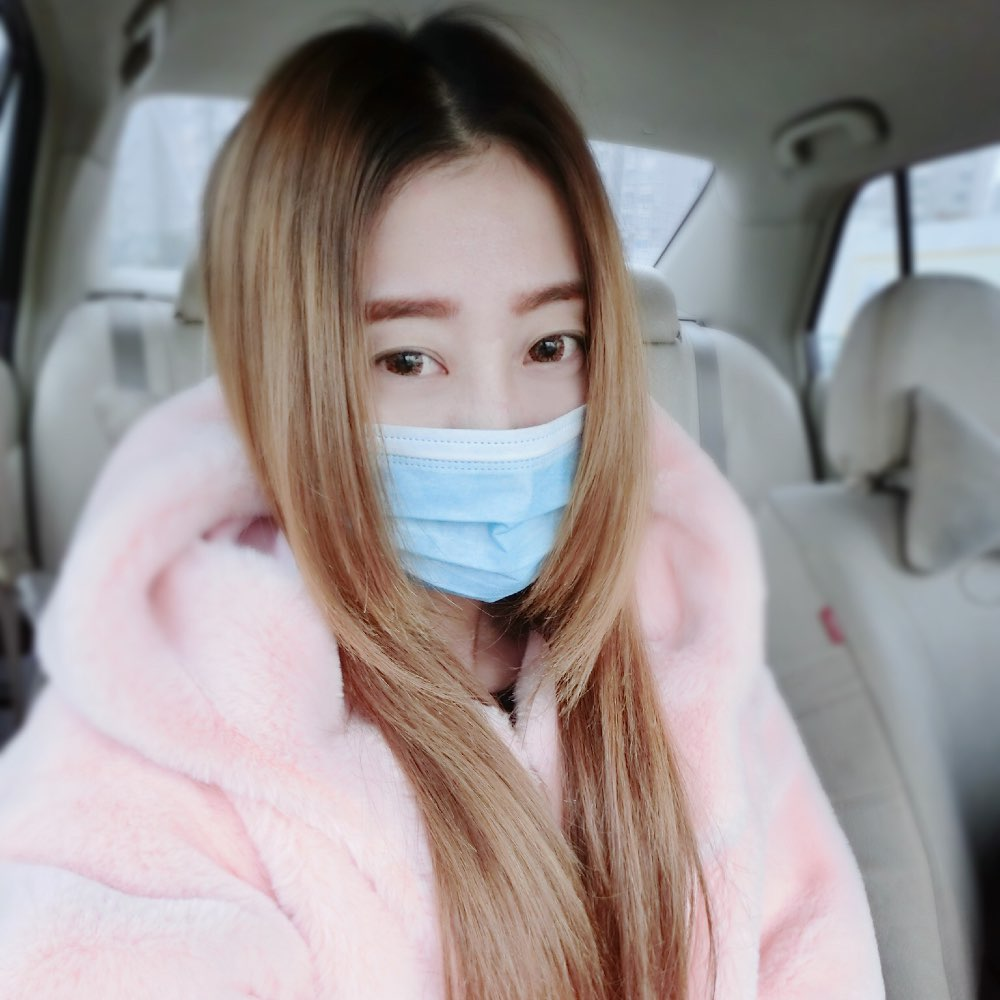face_mask: (345, 178, 589, 604)
